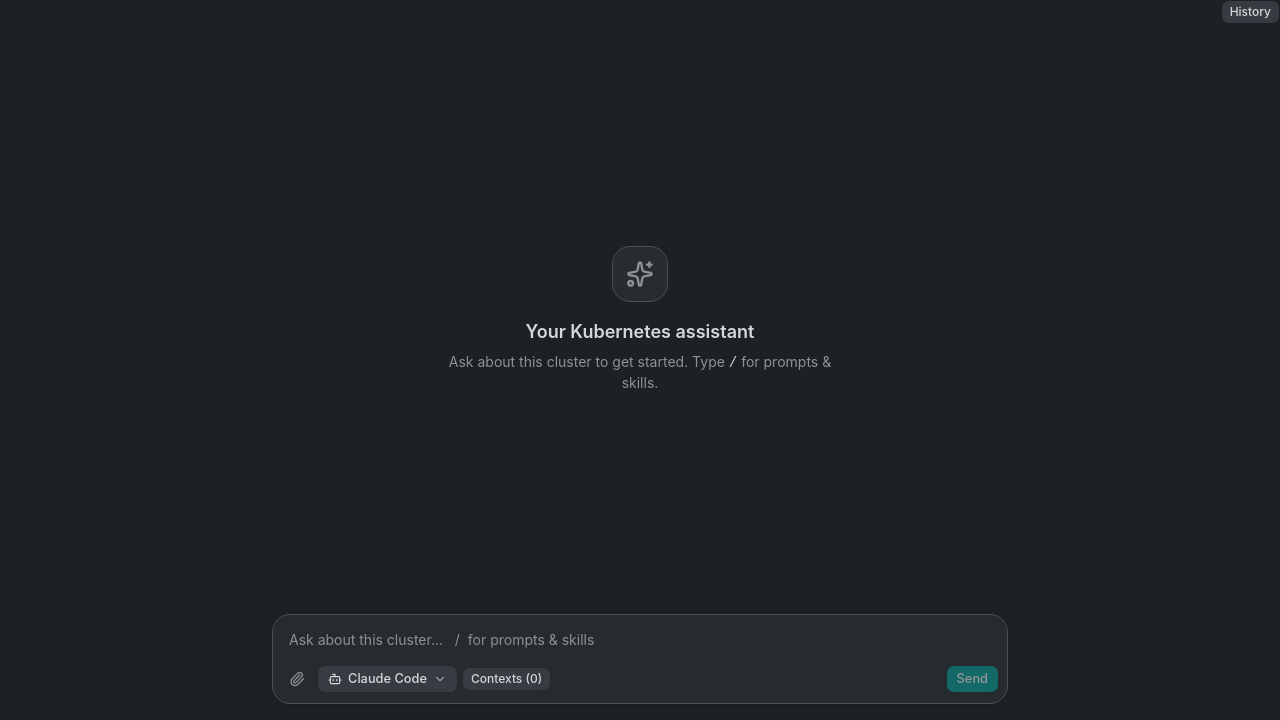
Scenario: AssistantConversation multi-context (global tab) › global tab shows a Contexts control and disables Send until at least one context is selected
Expected: the dropdown named "agent" is shown, [317,665,458,693]
Expected: the button "Contexts (0)" is shown, [462,667,551,691]
Type "hi" into the field with placeholder "Ask about this cluster… / for prompts & skills" at (640, 639), box [281,623,999,655]
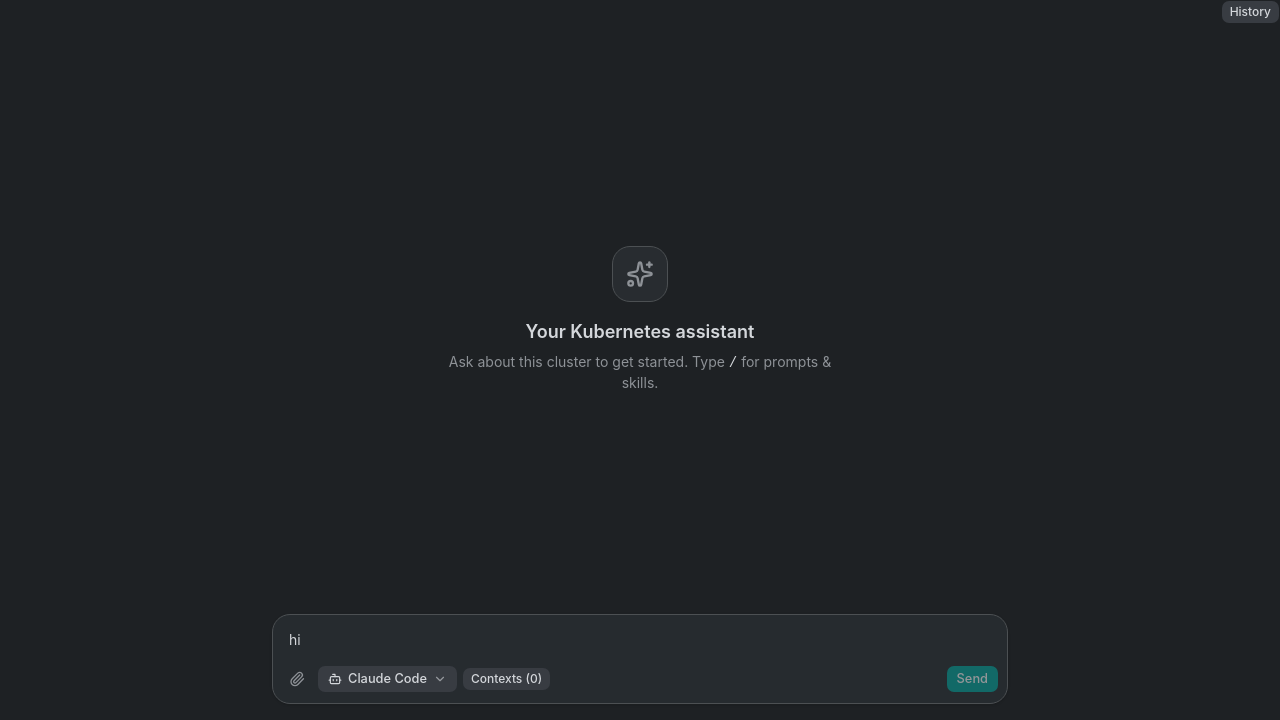
Expected: the button "Send" is disabled, [946,665,999,693]
Click the button "Contexts (0)" at (507, 679), box [462,667,551,691]
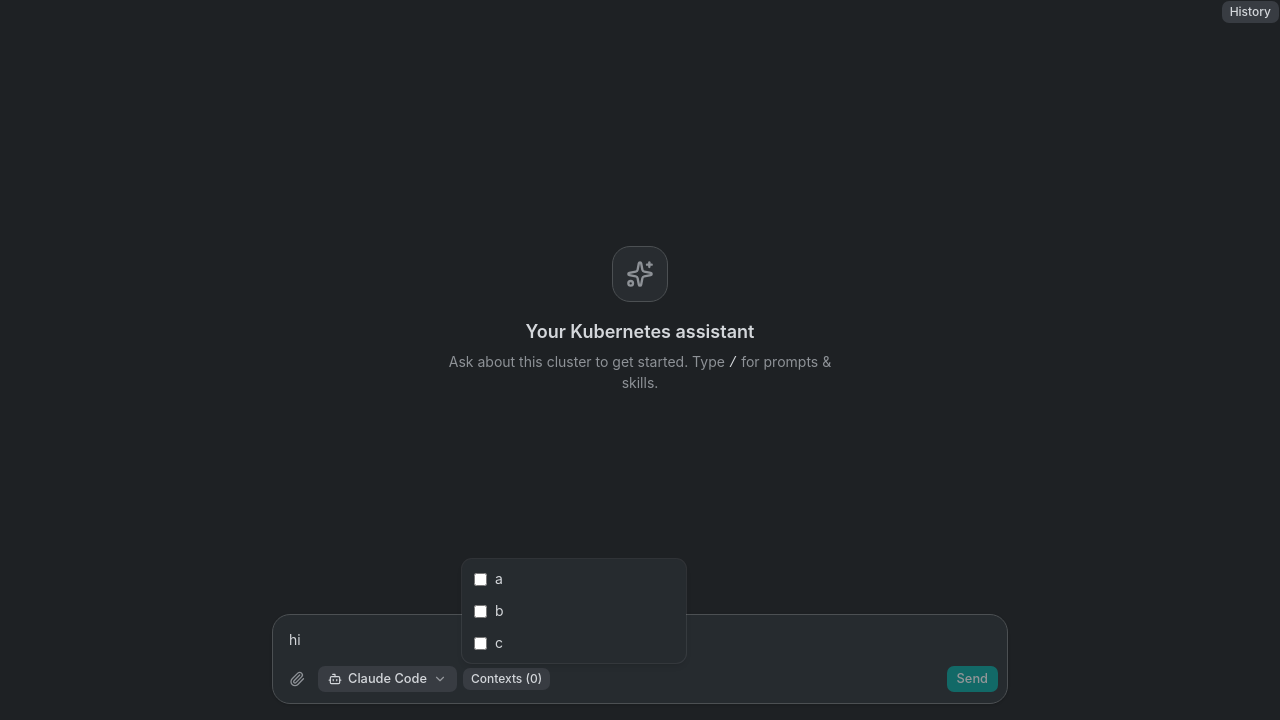
Click the text "a" at (499, 579), box [495,569,503,589]
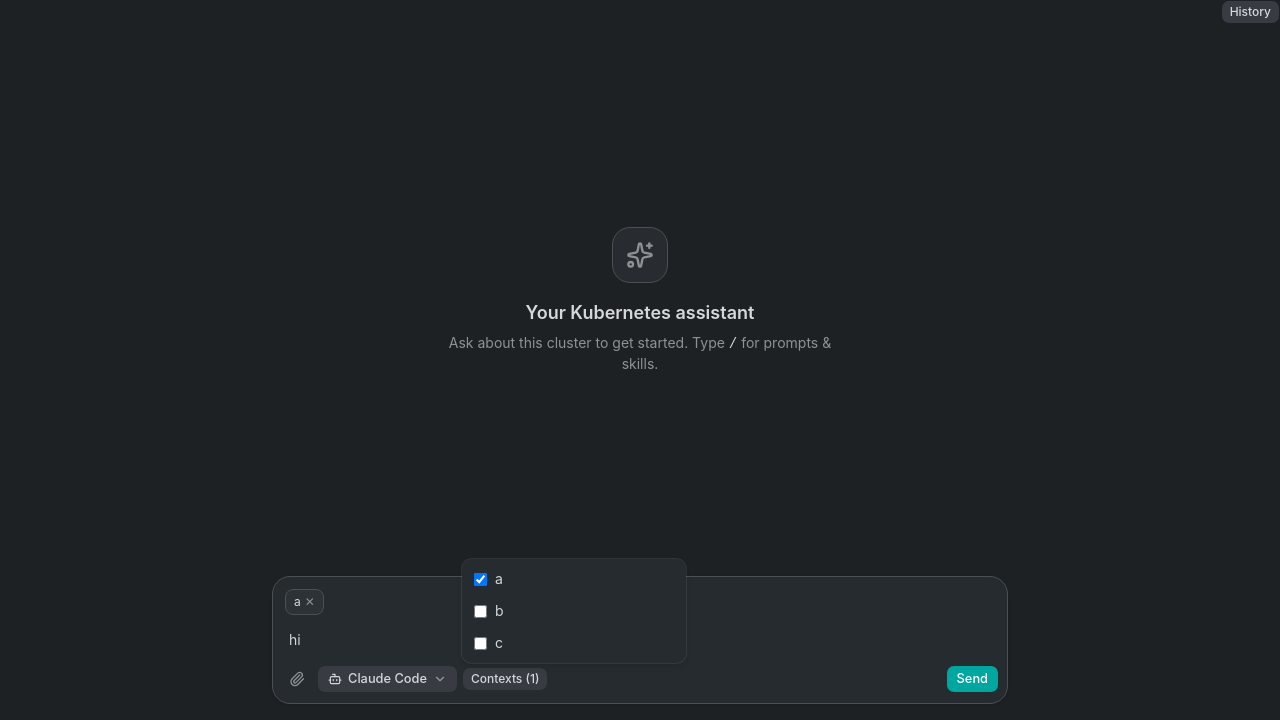
Expected: the button "Send" is enabled, [946,665,999,693]
